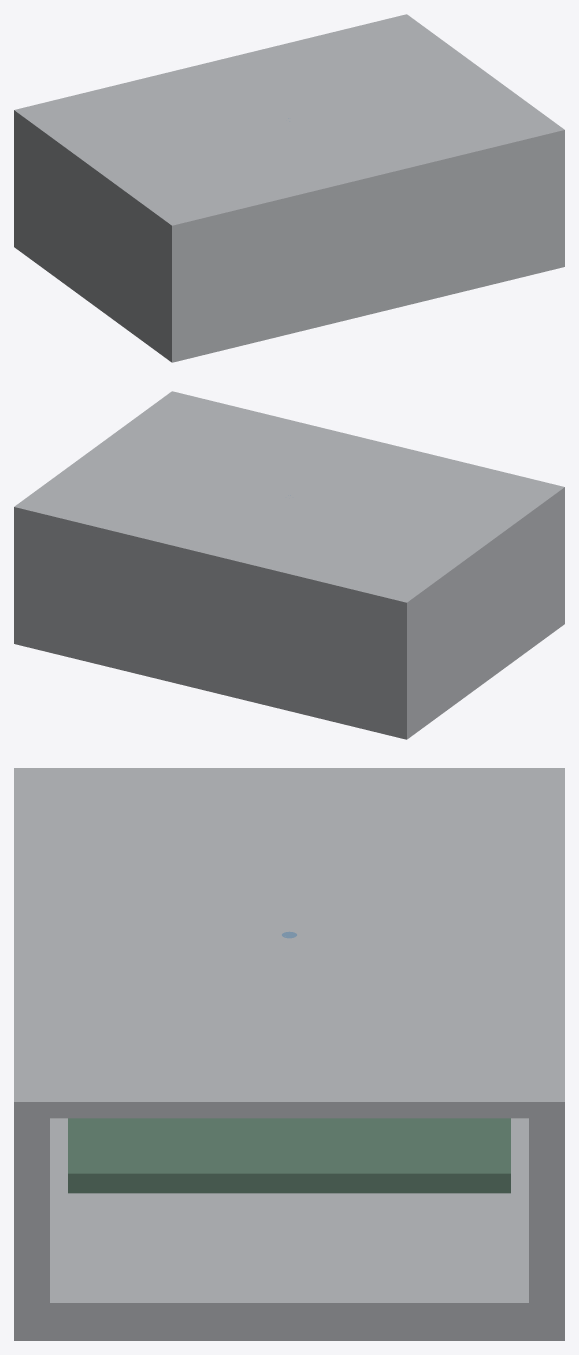
3 views of the same model, one above another, from view 1: azimuth 30°, elevation 25°; view 2: azimuth 150°, elevation 25°; view 3: azimuth 270°, elevation 25° (orthographic). The views are drawn at different scales.
Parts seen in each view (by area): view 1: enclosure; view 2: enclosure; view 3: enclosure, main_board.
Part boxes in pixels (x1,y1,x2,y2): enclosure: [14, 14, 564, 362]; enclosure: [14, 391, 564, 739]; enclosure: [14, 768, 564, 1340]; main_board: [68, 1118, 510, 1193].
Size of the model in its own units: 6.6 by 2.2 by 4.6.
